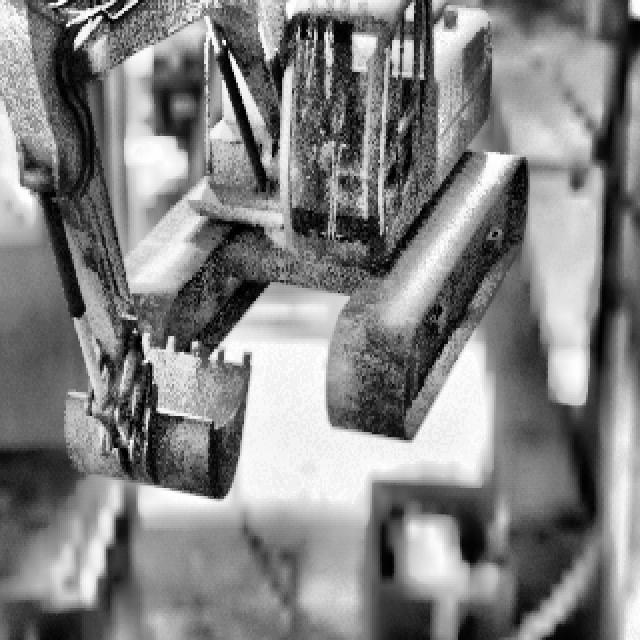excavator: (0, 0, 526, 499)
